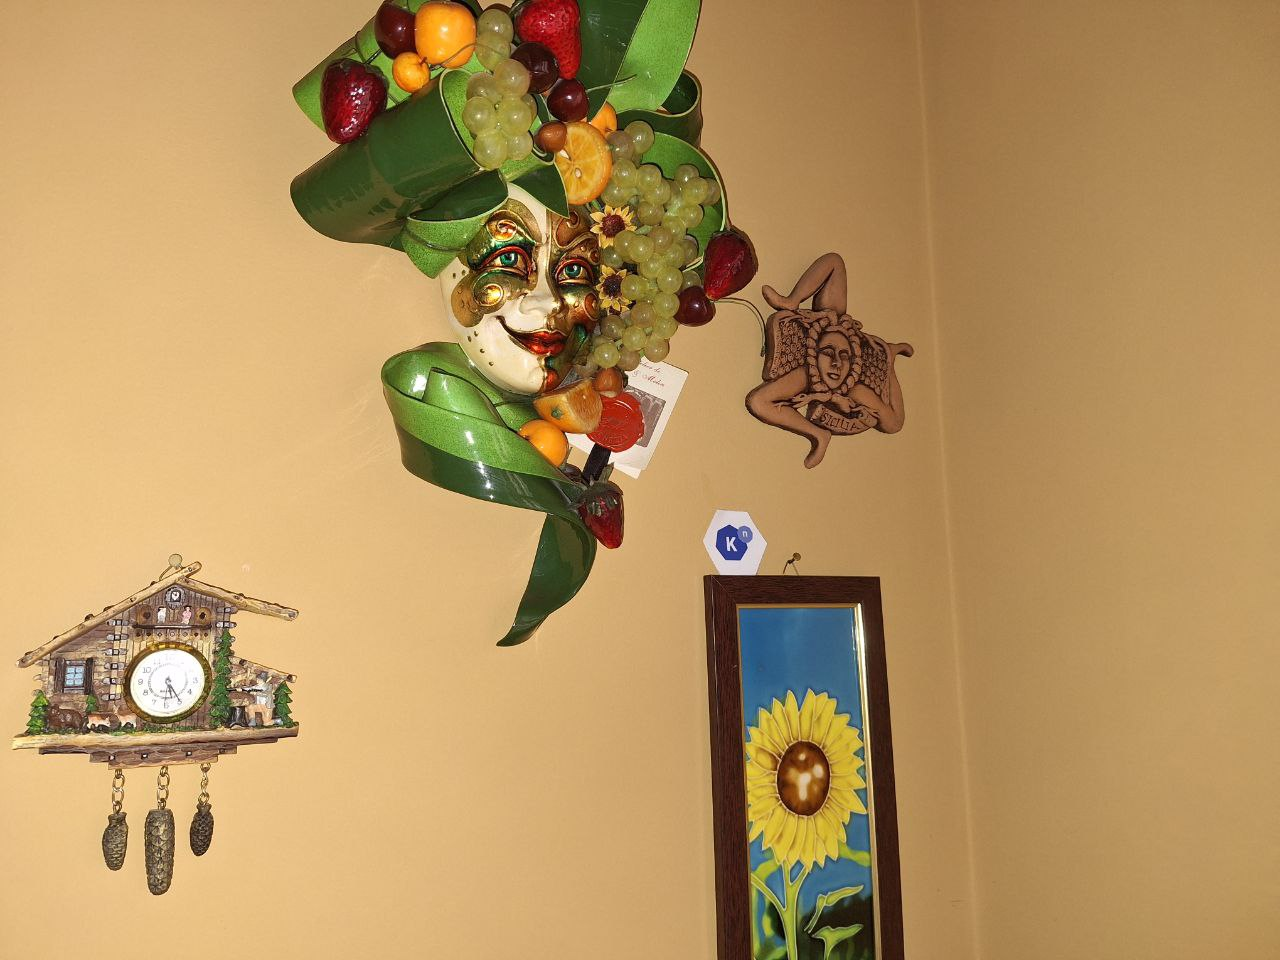knative: (716, 525, 753, 563)
